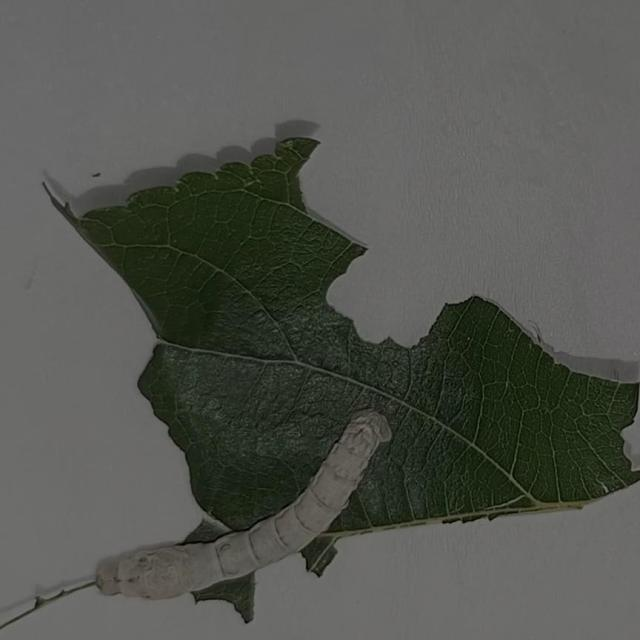Healthy: (88, 405, 395, 611)
